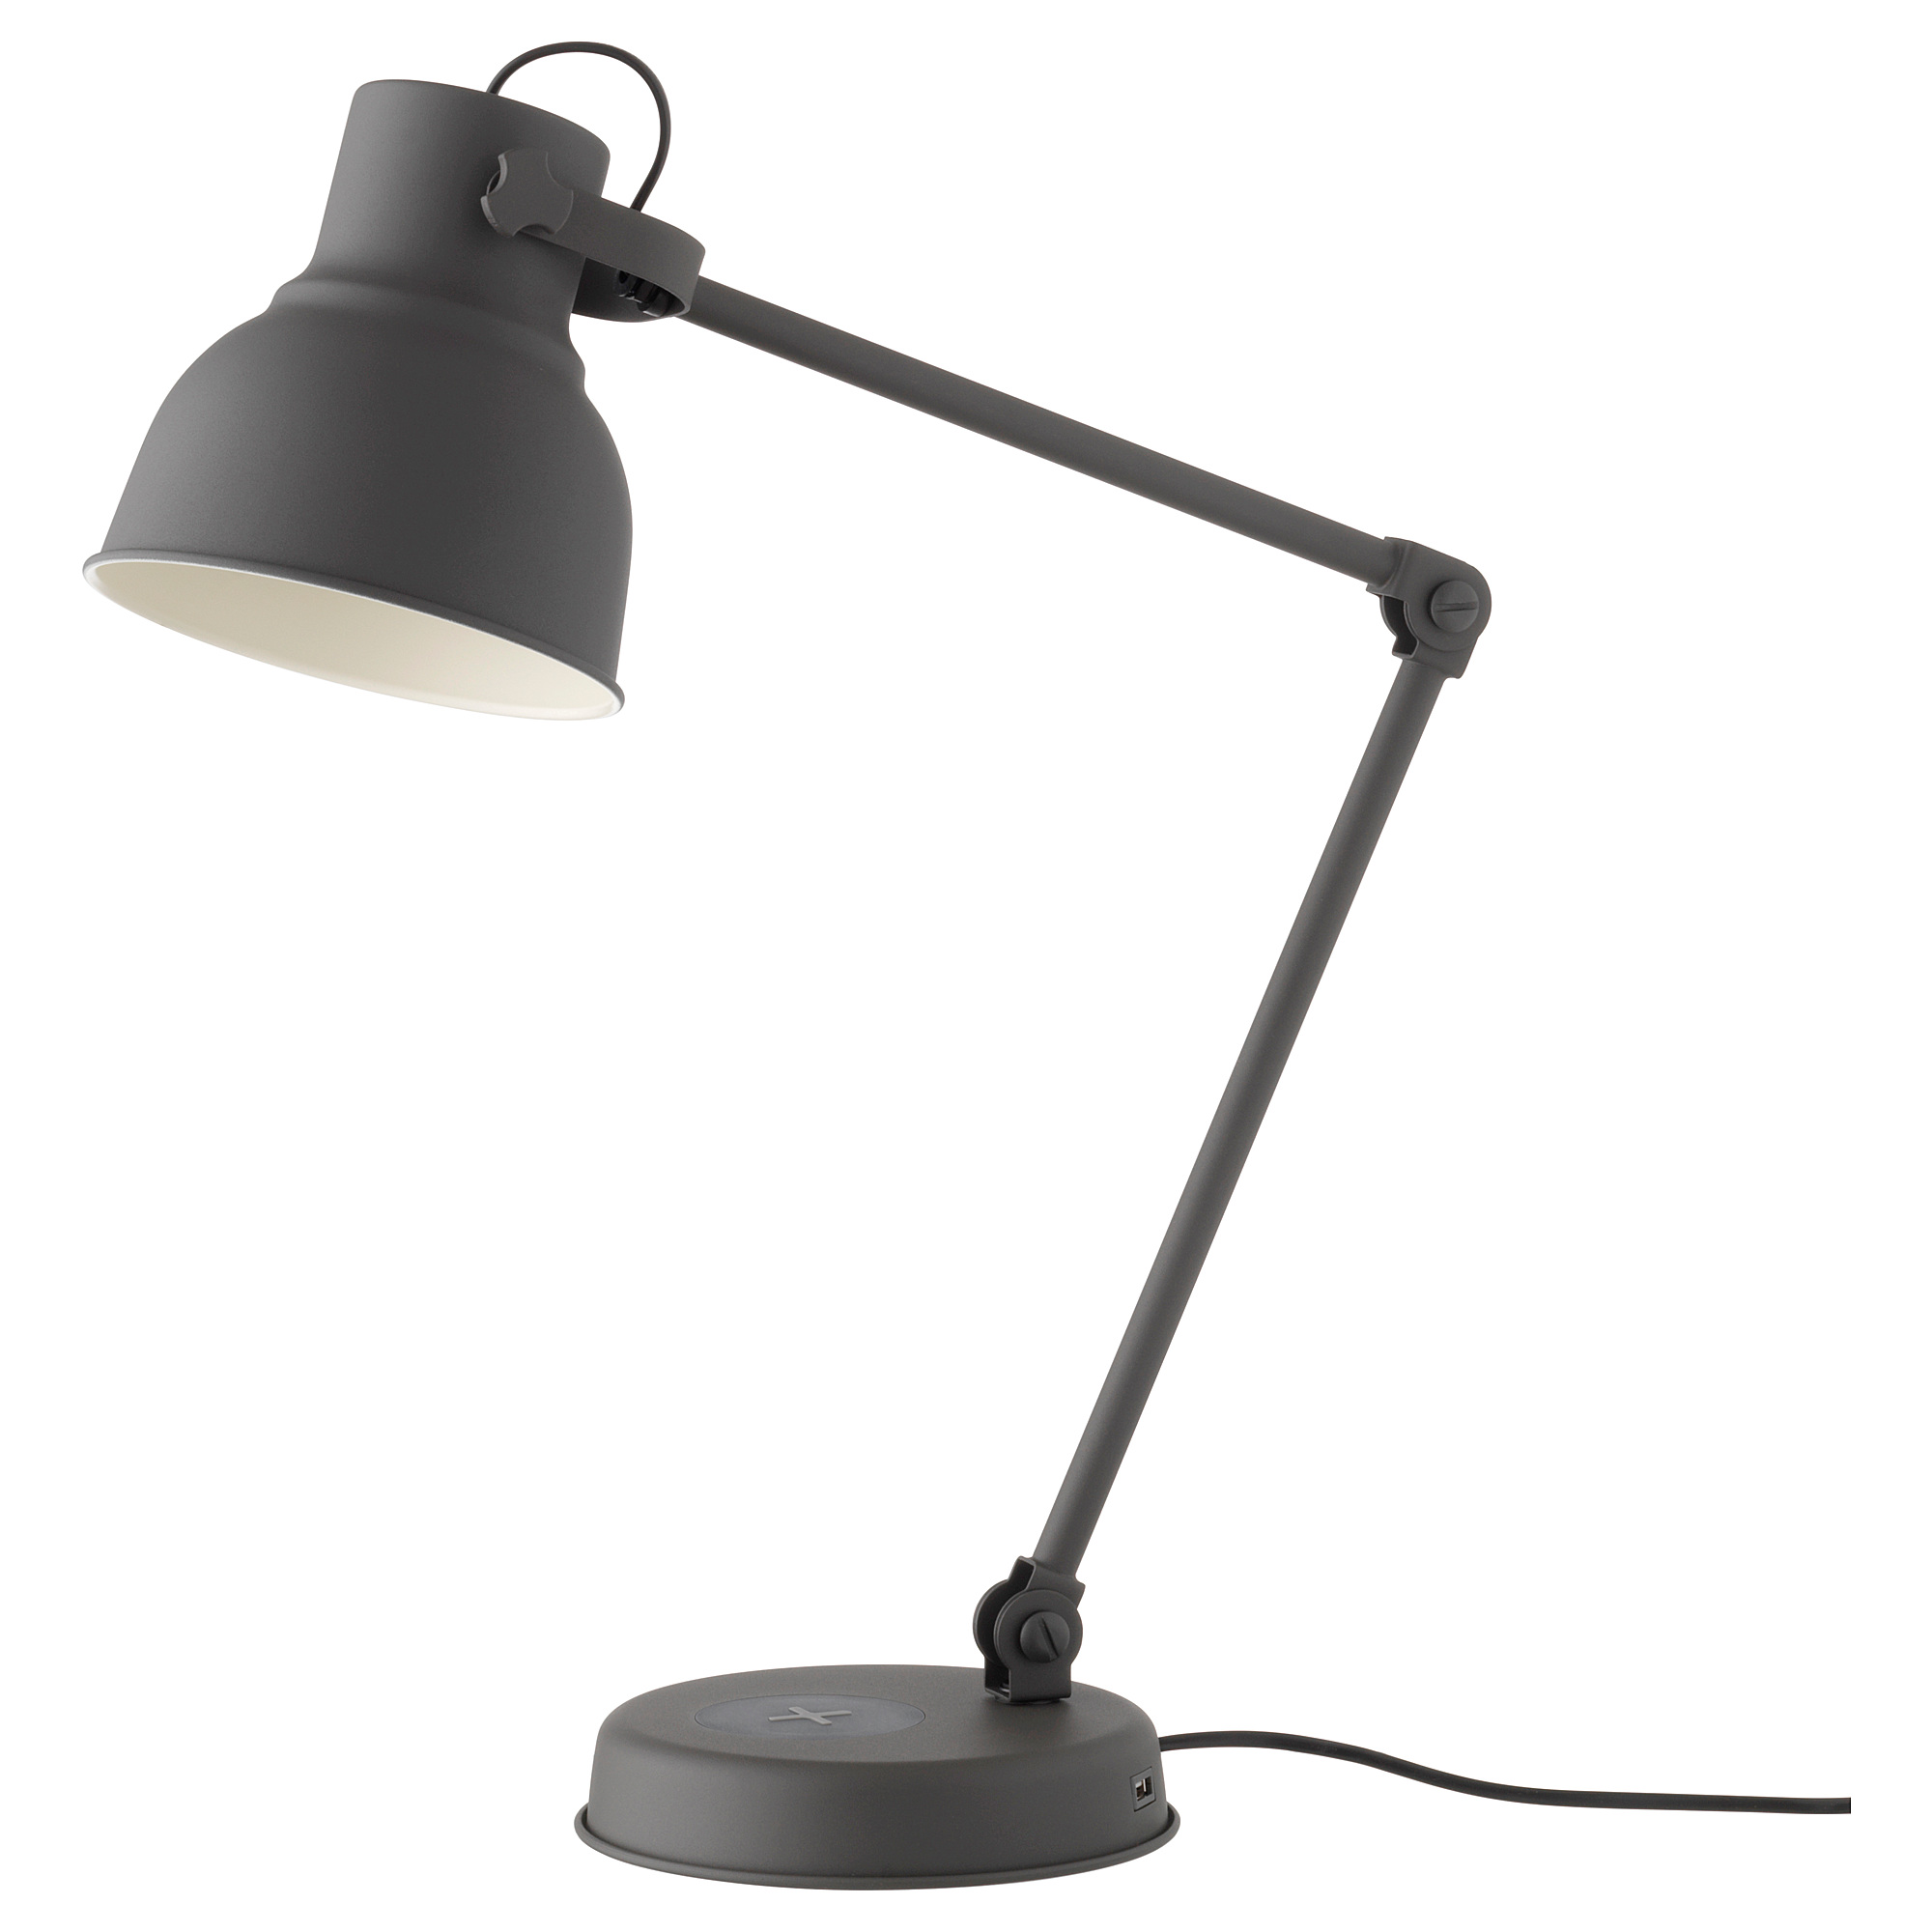lampu: (74, 96, 1493, 1895)
